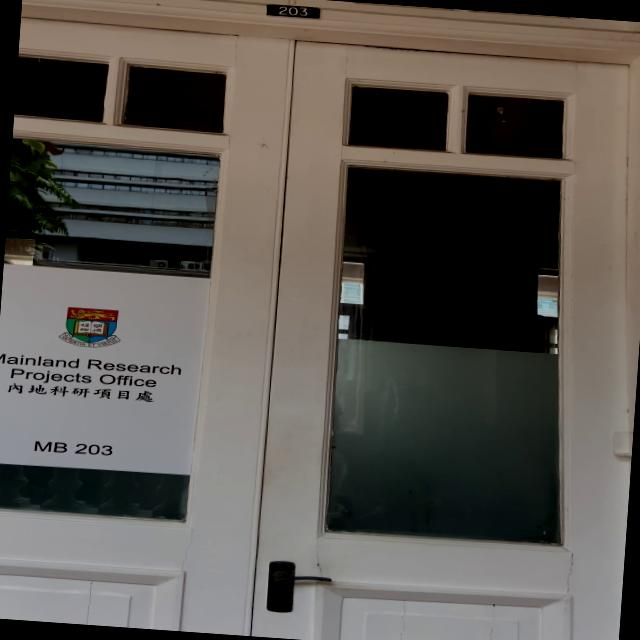room203: (260, 0, 330, 22)
room203Window: (30, 434, 118, 461)
